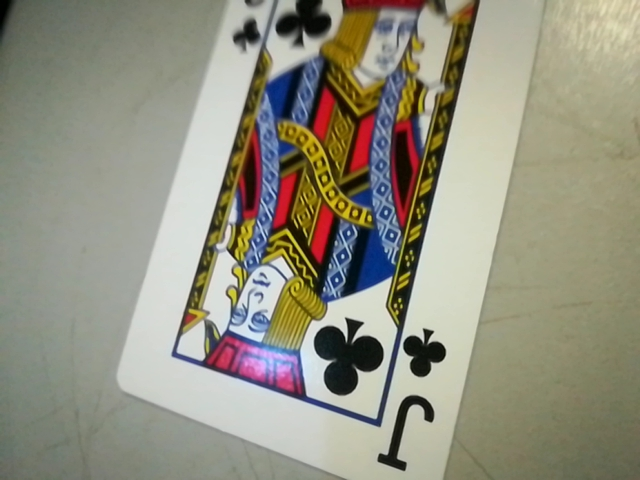mh j: (383, 323, 452, 471), (227, 0, 279, 54)
